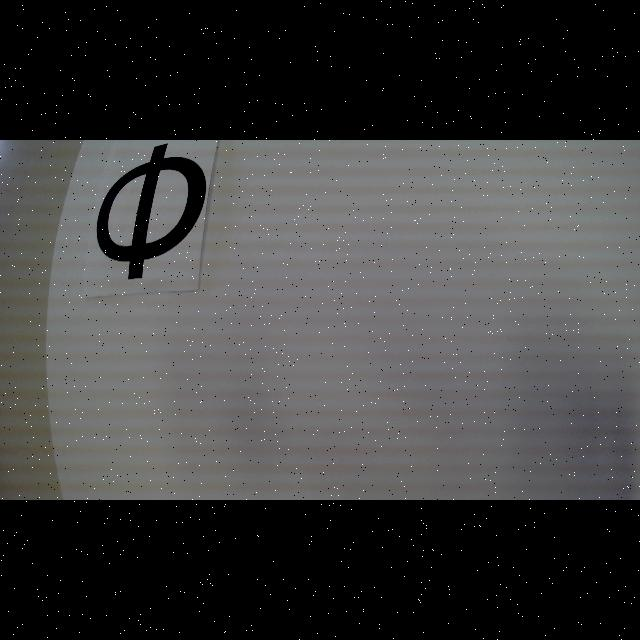PHI: (96, 143, 208, 280)
